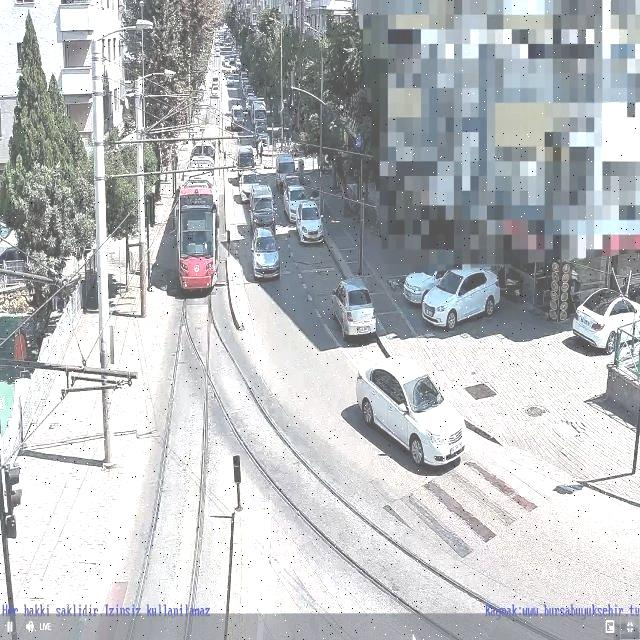Bus: (167, 180, 224, 298)
Car: (352, 351, 473, 470), (421, 266, 501, 330), (571, 288, 638, 353), (330, 278, 376, 340), (396, 263, 459, 296), (250, 227, 280, 280), (294, 200, 324, 243), (250, 189, 276, 230), (283, 182, 308, 221), (239, 171, 262, 203)
Van: (276, 154, 298, 188)
